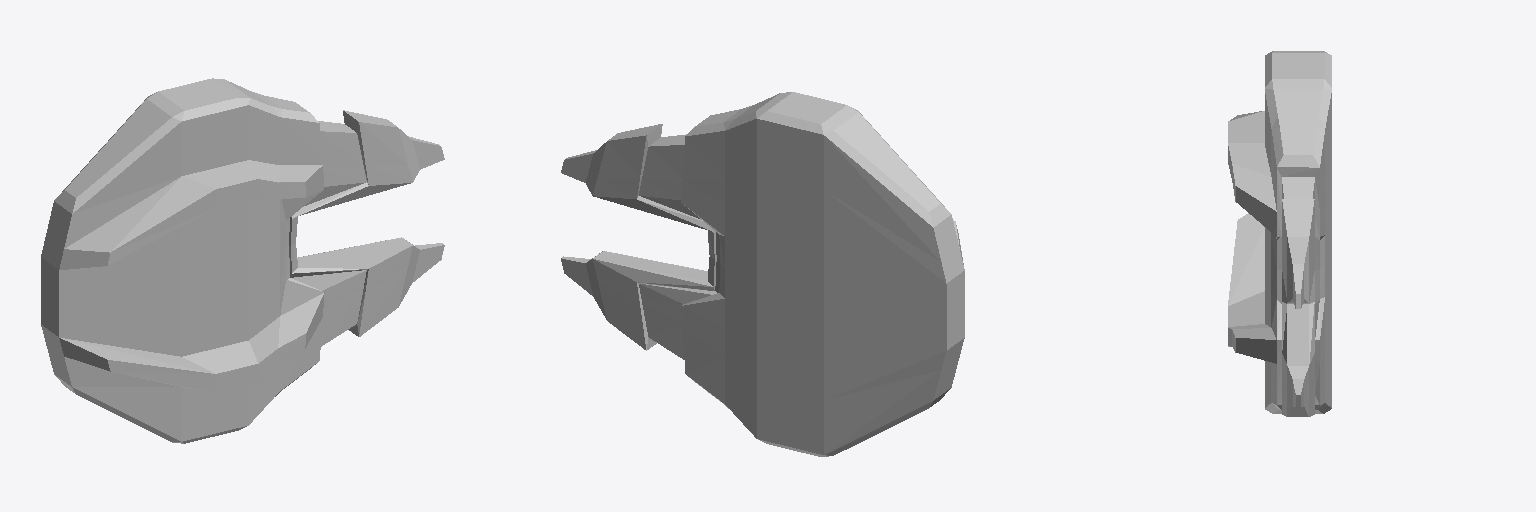
File: enemyS4.obj
The picture shows the model from 3 angles: view 1: azimuth 30°, elevation 25°; view 2: azimuth 150°, elevation 25°; view 3: azimuth 270°, elevation 25°; orthographic projection.
Size of the model in its own units: 1.87 by 1.51 by 0.4292.